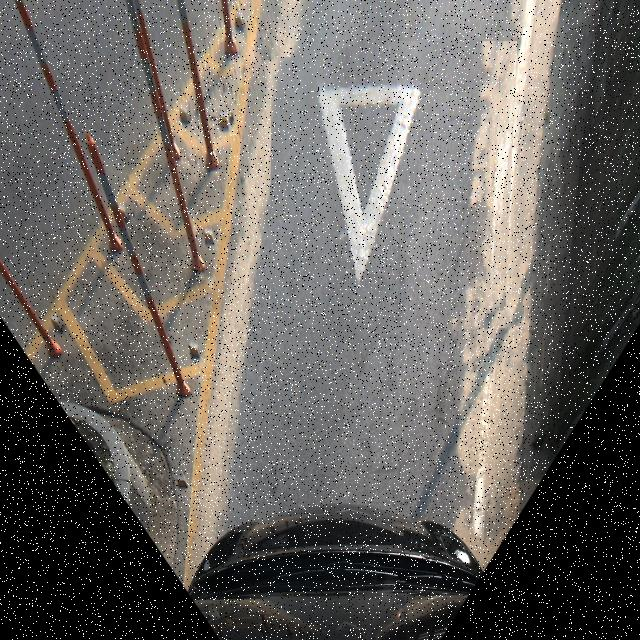yangbo: (271, 41, 518, 344)
